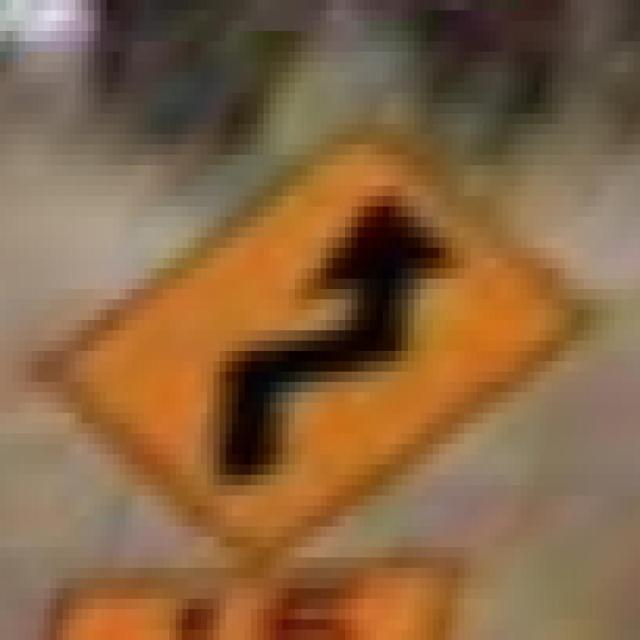Tikungan Ganda Pertama Ke Kanan: (31, 103, 590, 568)
